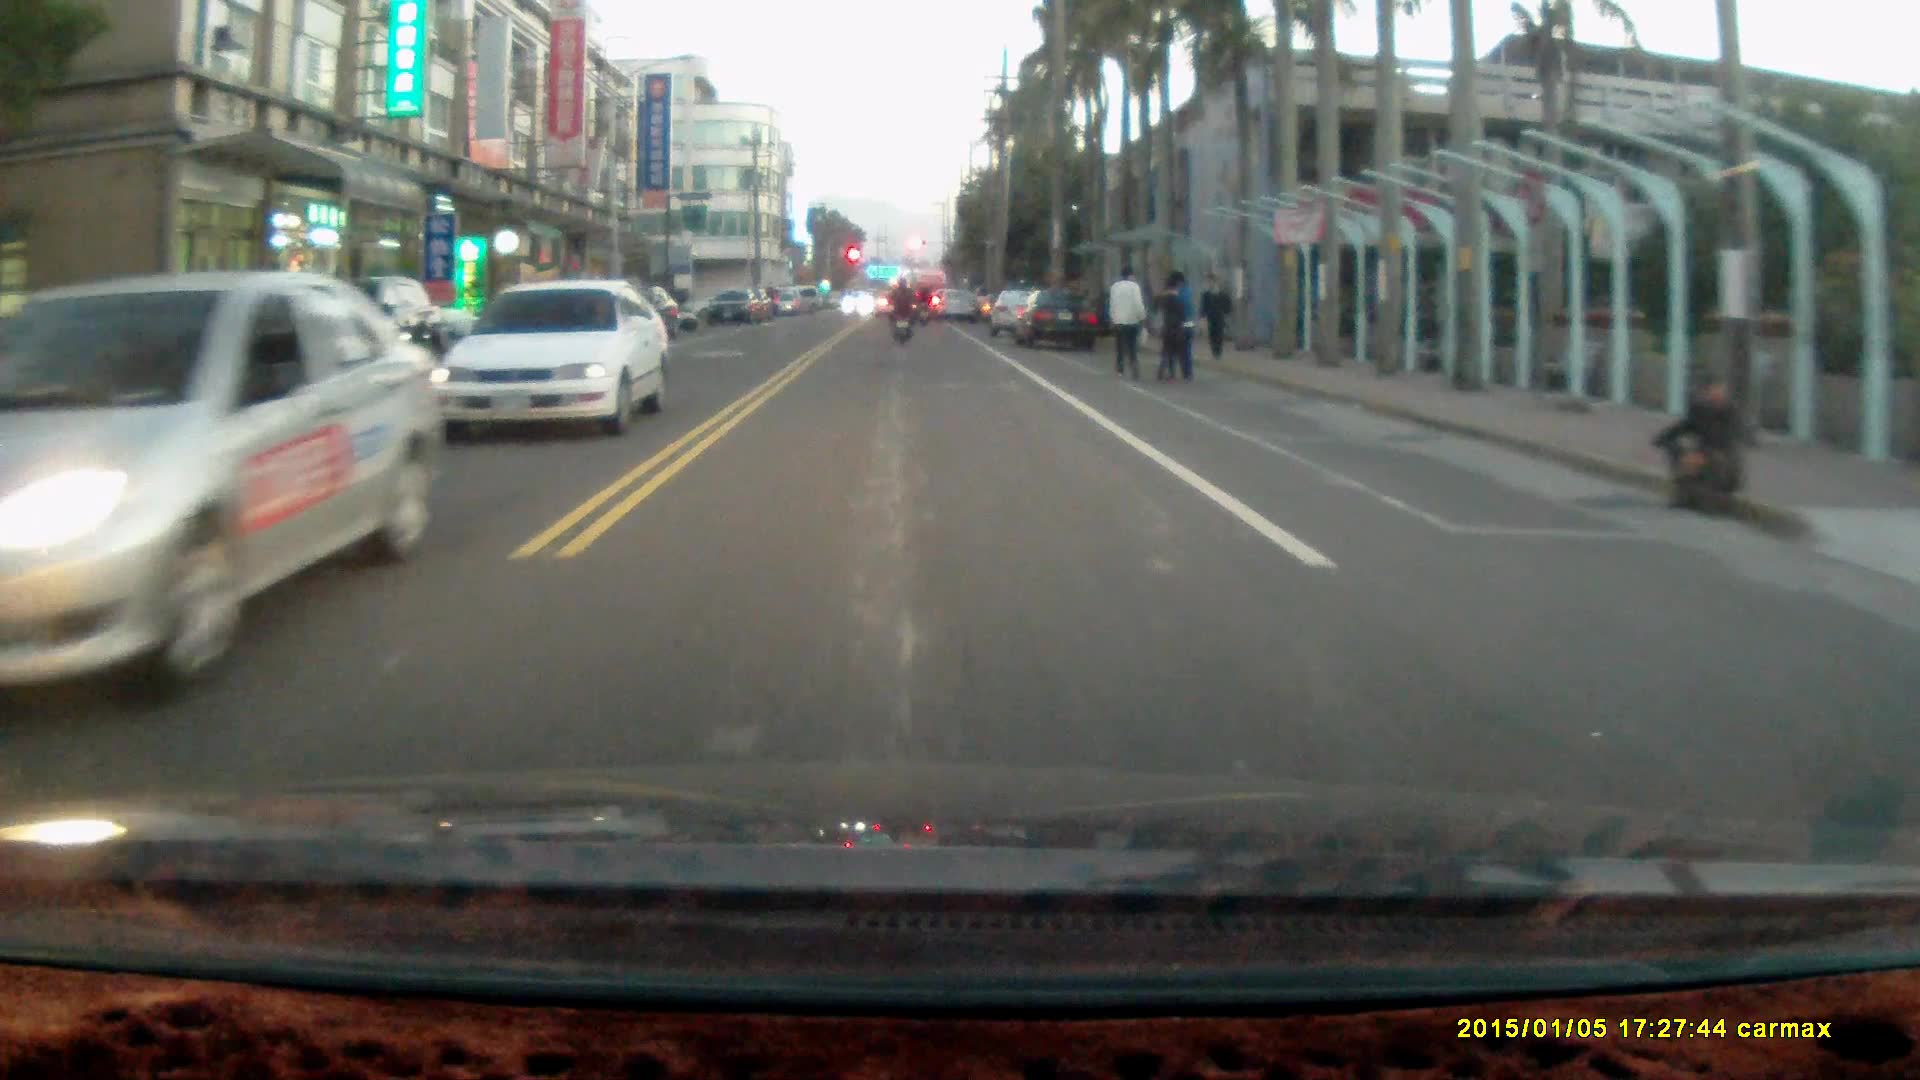pedestrian: (1647, 375, 1749, 516), (1106, 260, 1145, 380), (1151, 276, 1190, 385), (1199, 269, 1234, 361)
rider: (884, 275, 915, 347)
vehicle: (1, 268, 475, 700), (441, 278, 672, 431), (1011, 289, 1103, 348)
